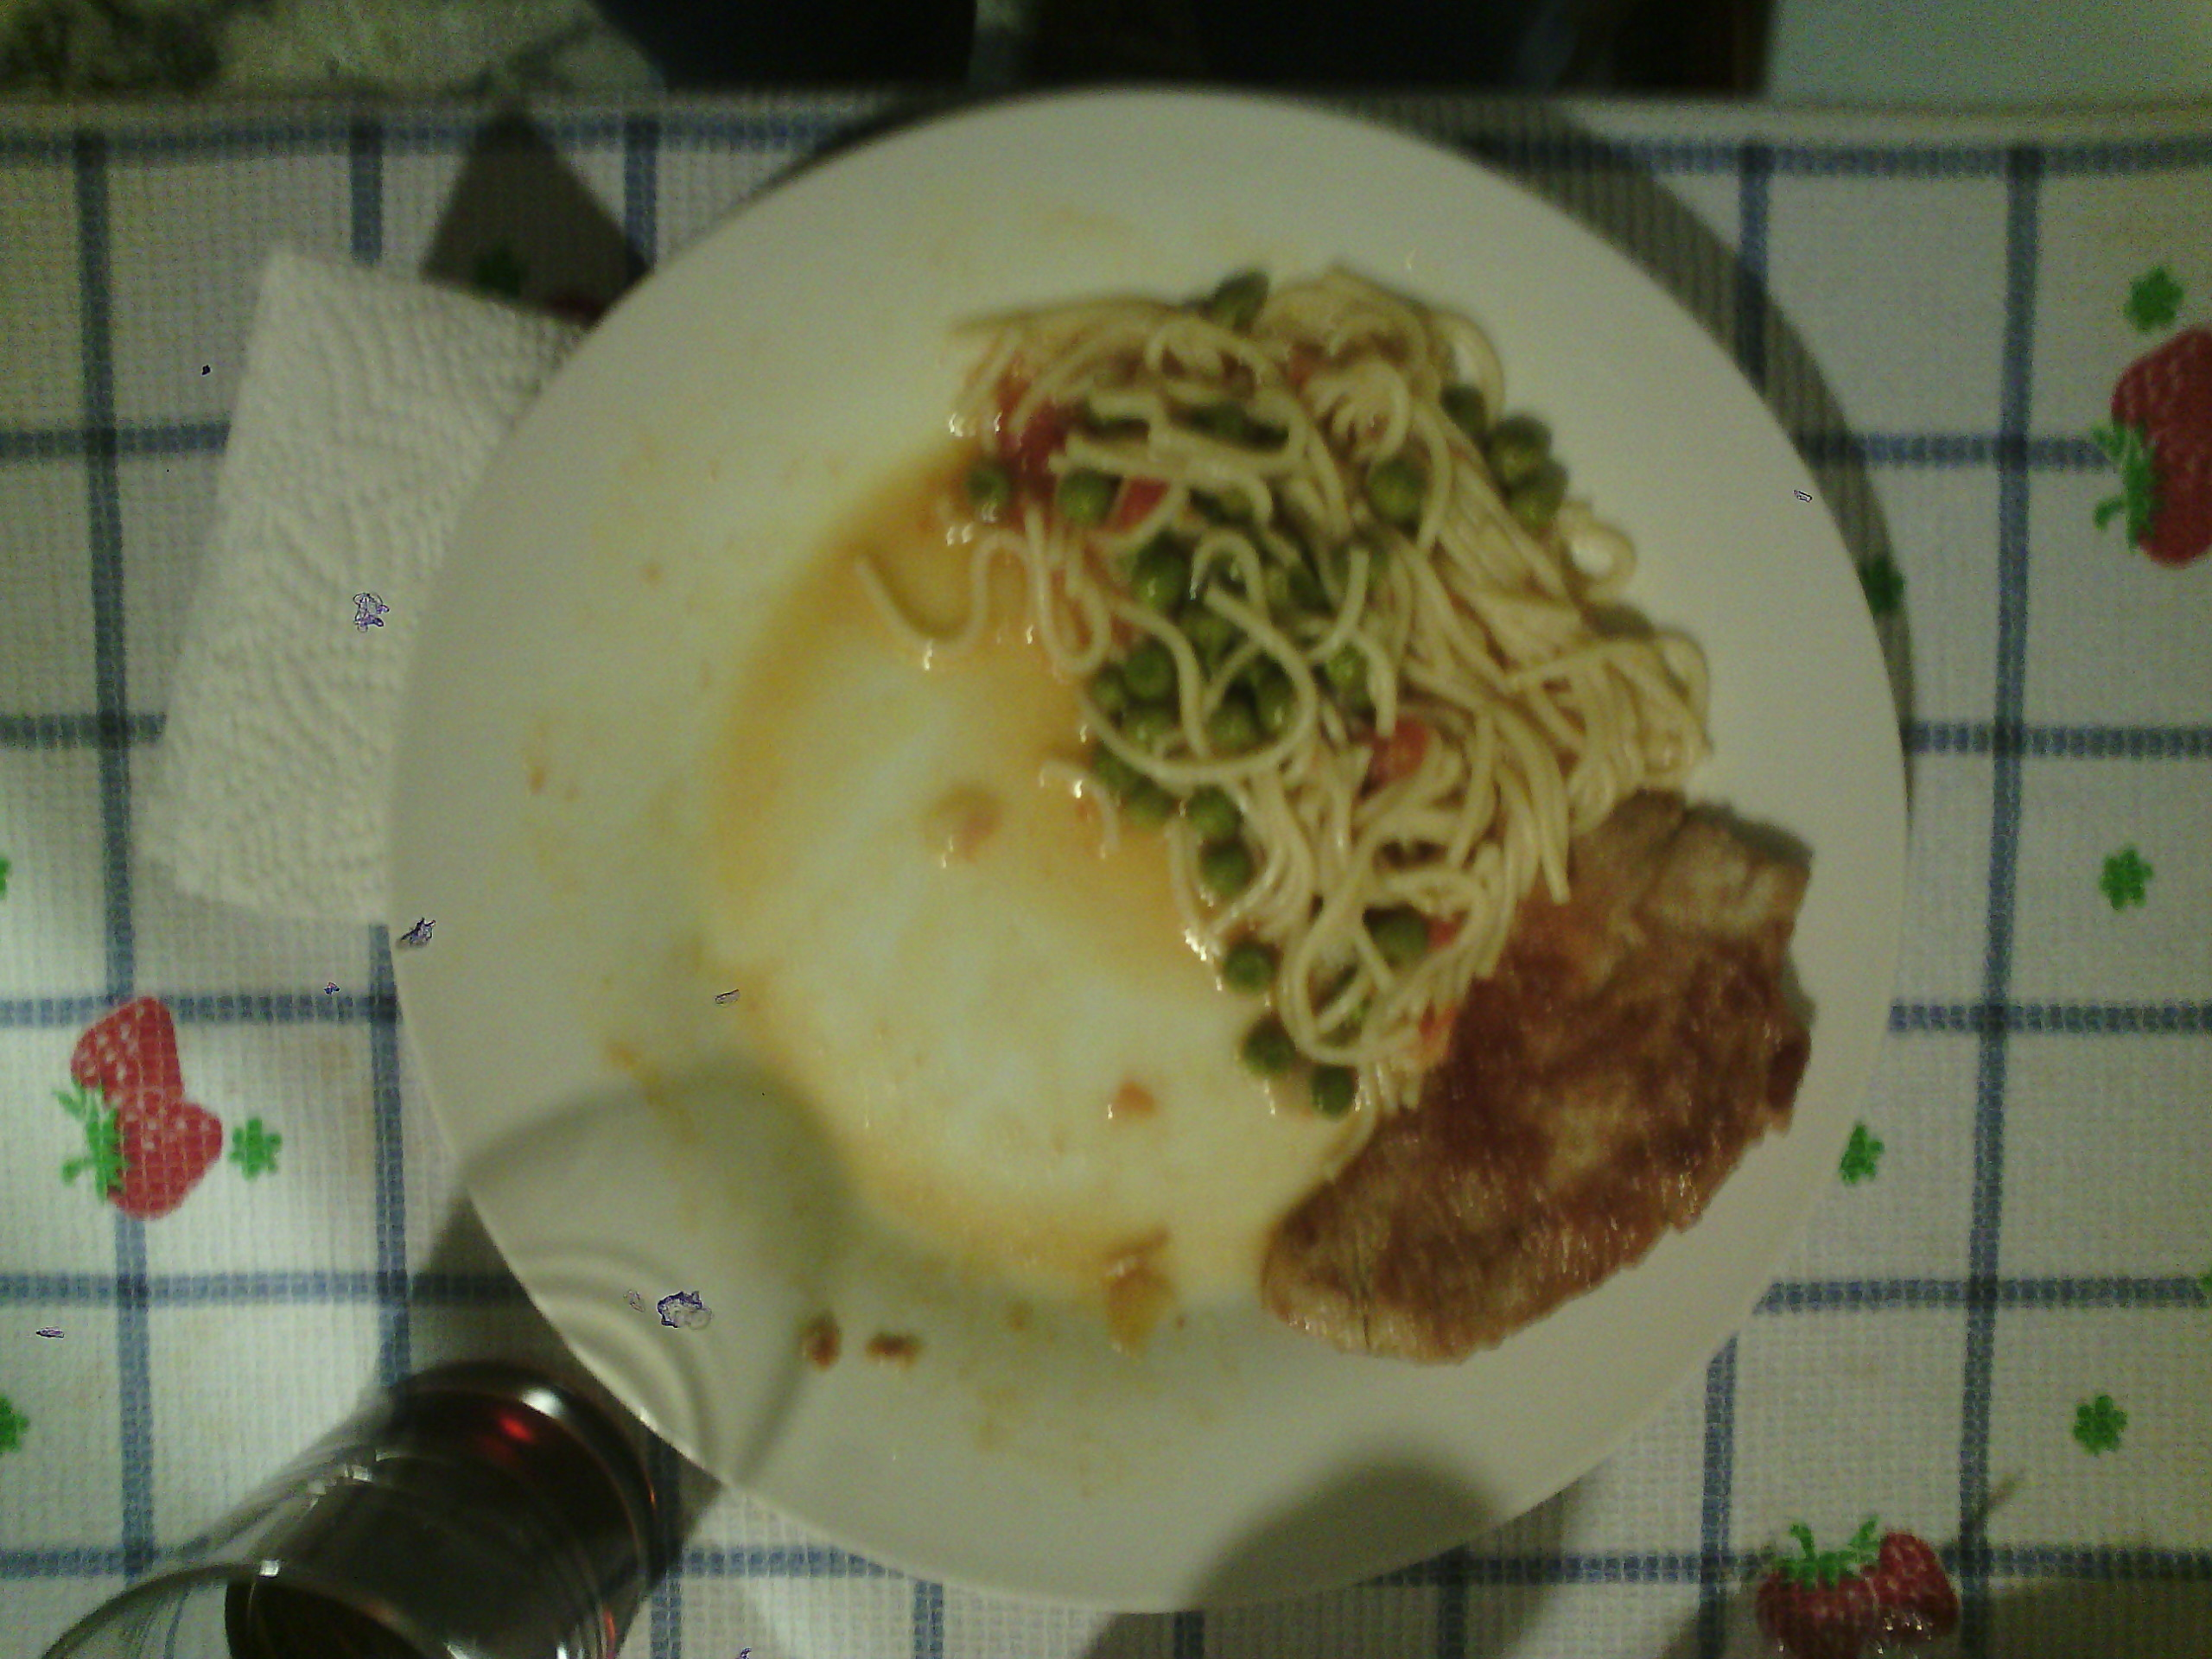41-60: (392, 92, 1904, 1610)
